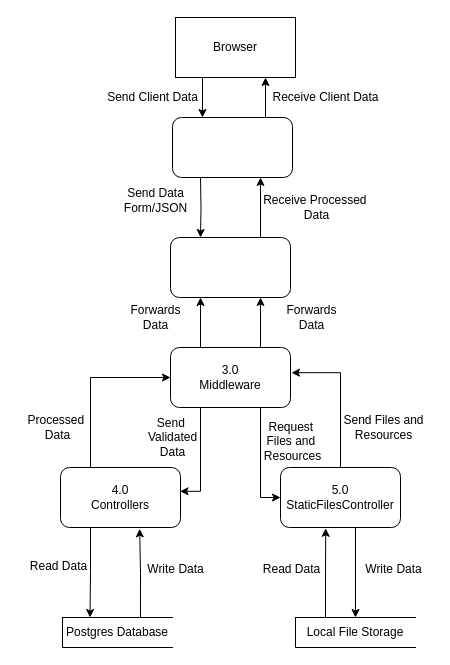
This 450x665 diagram has some shape labels left out. The box of each missing label's shape, as (x1, y1, x2, y2) in pixels:
1.0 React Process: (172, 116, 292, 178)
2.0 API: (170, 236, 290, 298)
